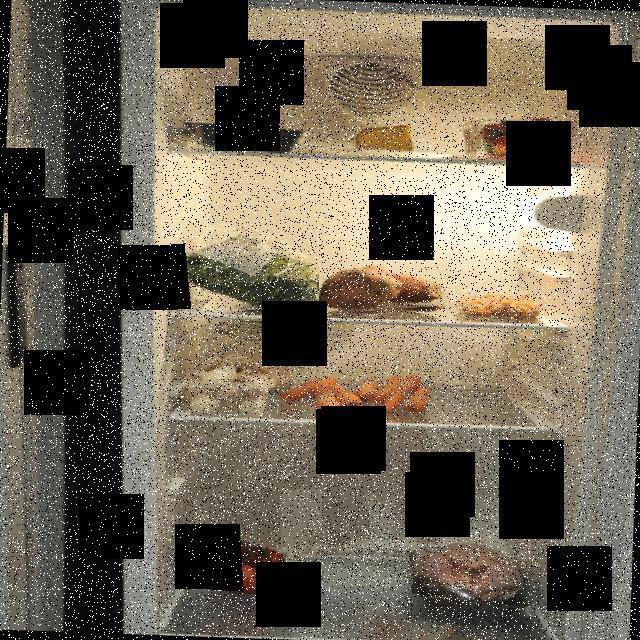carrot: (278, 373, 437, 422)
cheese: (352, 122, 416, 156)
chicken: (400, 534, 539, 617)
flour: (214, 320, 305, 388)
mushrooms: (181, 352, 283, 417)
shrimp: (458, 290, 544, 320)
spinach: (162, 230, 322, 316)
strawberries: (466, 114, 577, 164)
sweet_potato: (319, 266, 452, 316)
tomato: (200, 530, 302, 594)
